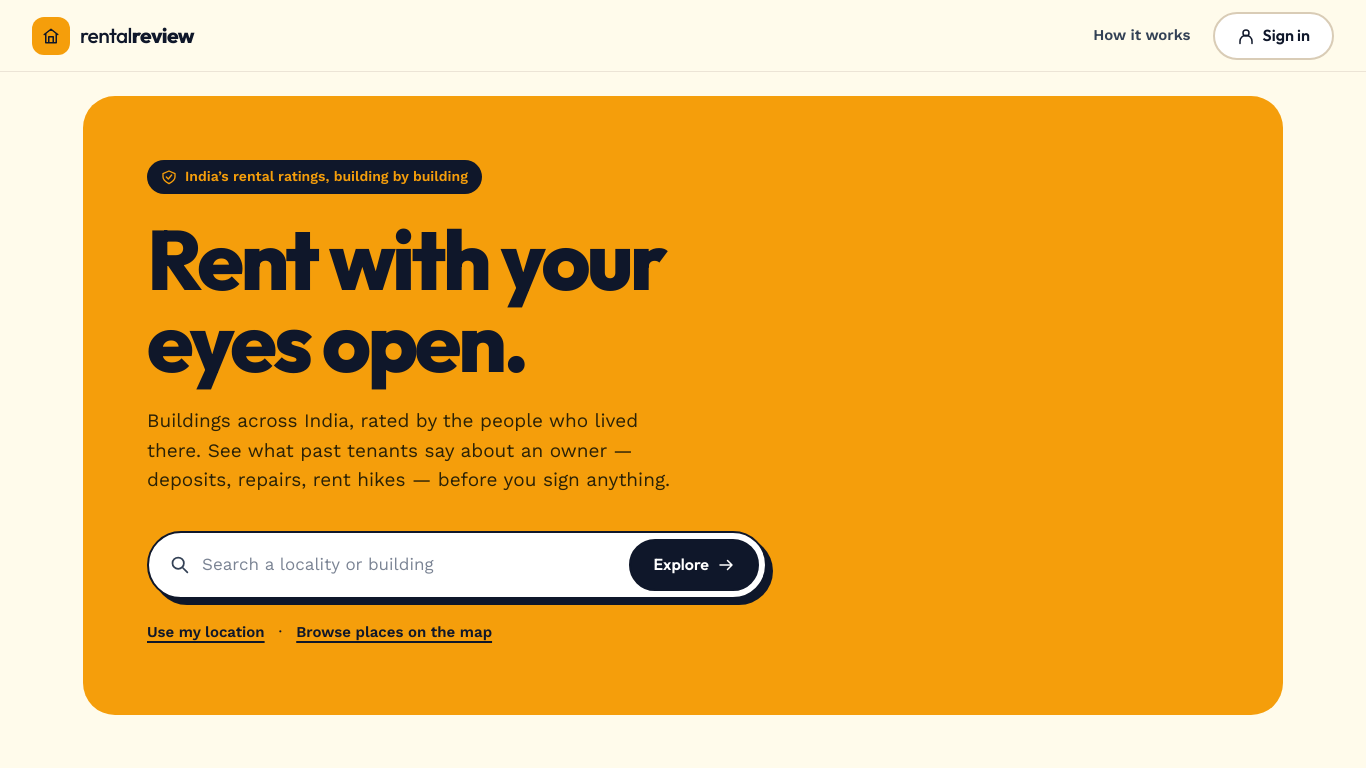
Test: Rental Review › opens a review on its own page with its discussion, like a building
Click the button "Browse places on the map" at (394, 633), box [296,615,492,651]
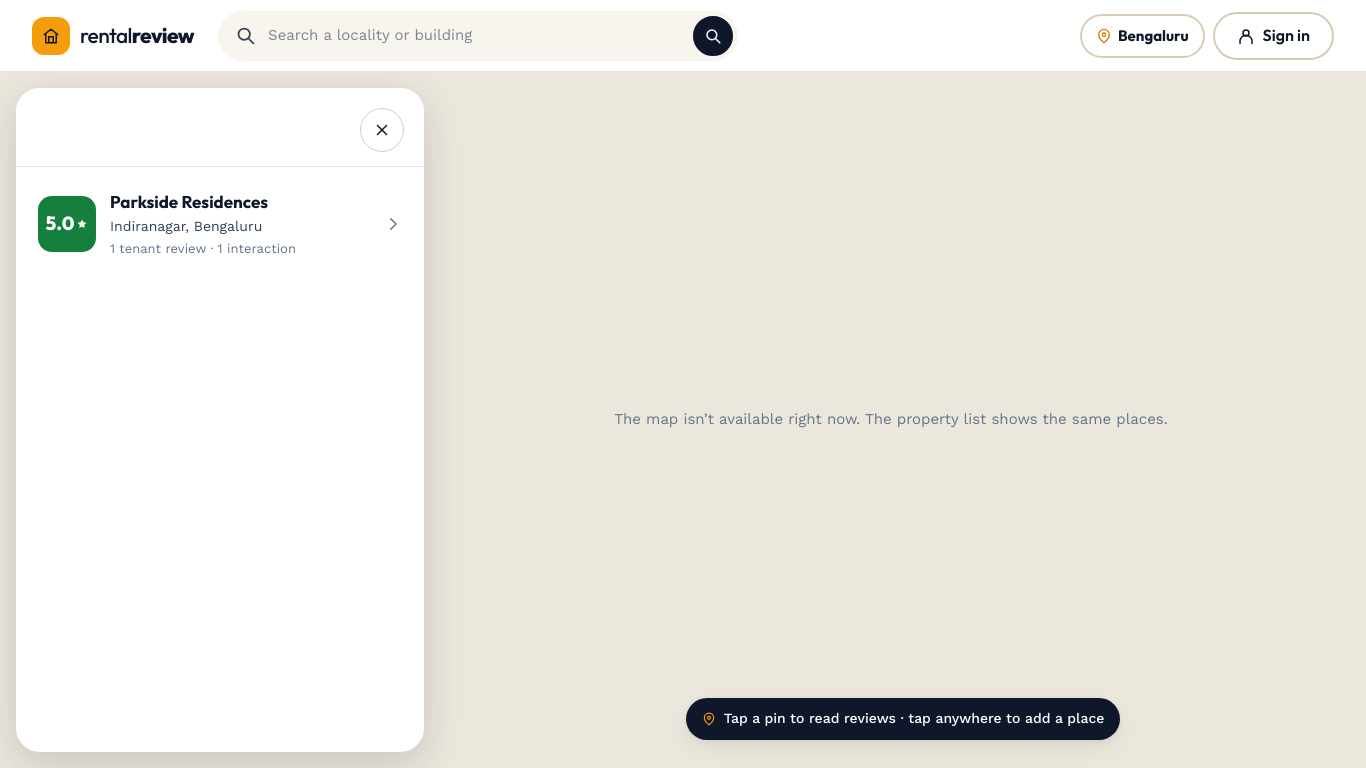
Click the button "Parkside Residences" at (220, 224), box [26,177,414,271]
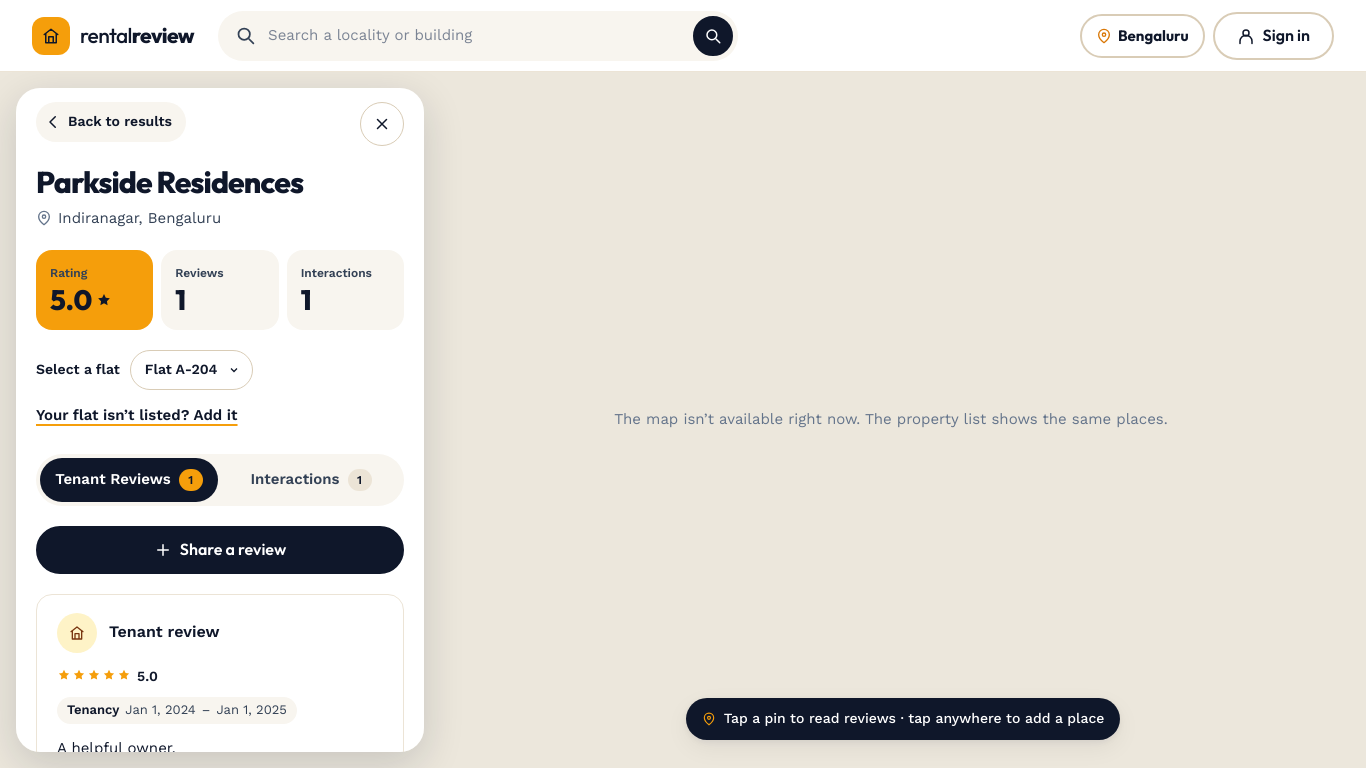
Click the text "A helpful owner." at (116, 748), box [57,739,176,757]
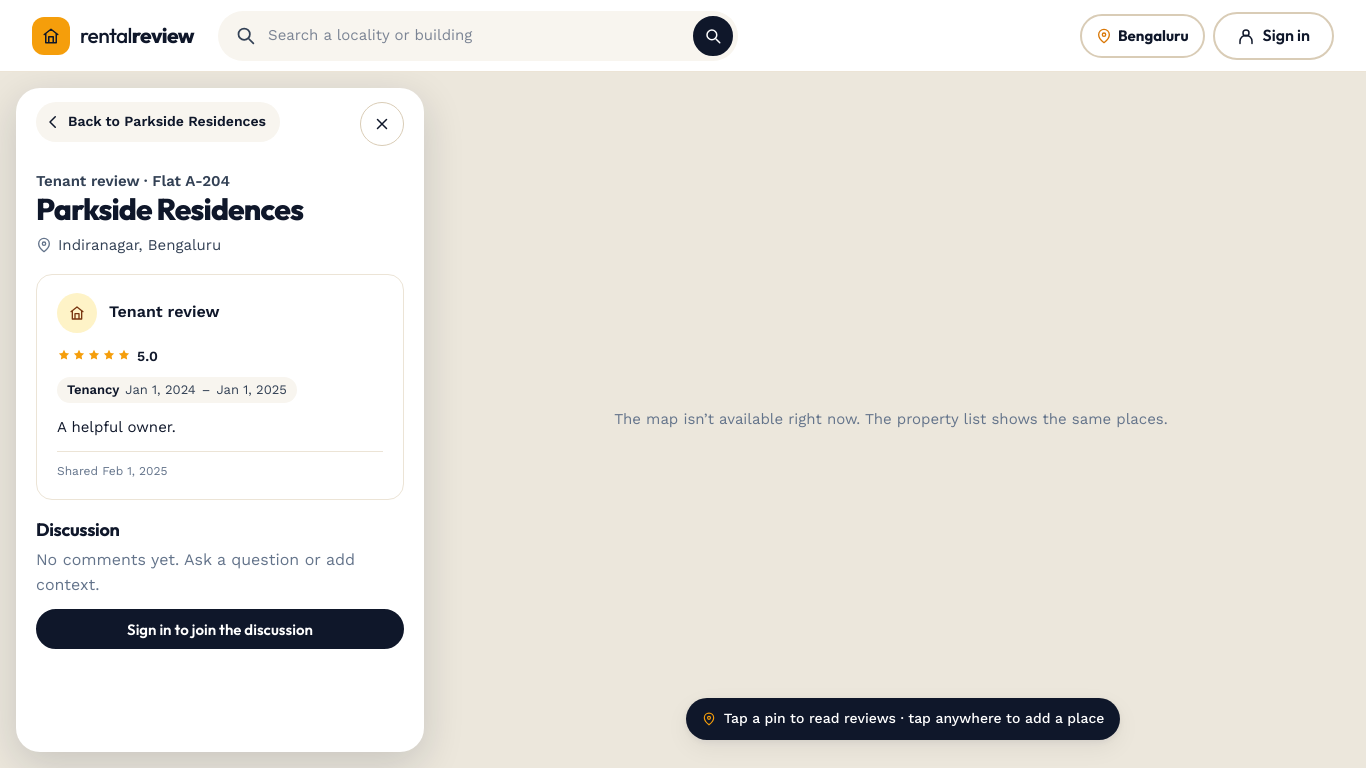
Expected: the heading "Discussion" is shown, [36,518,119,541]
Expected: the text "Tenant review · Flat A-204" is shown, [36,172,230,190]
Click the button "Back to Parkside Residences" at (158, 122), box [36,102,280,142]
(page scrolled)
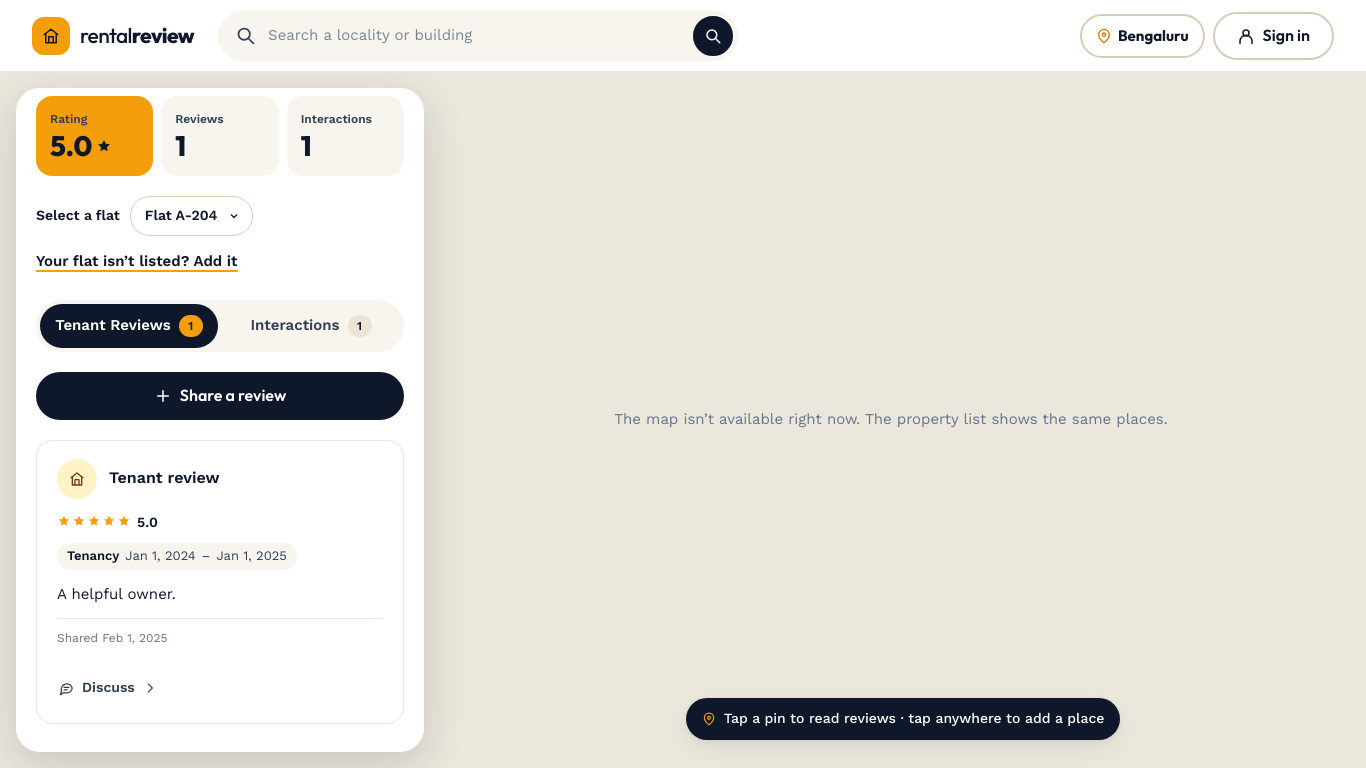
Expected: the element showing "Tenant Reviews 1 Interactions 1" is shown, [36,300,404,352]
Click the button "Discuss" at (108, 687), box [57,671,383,705]
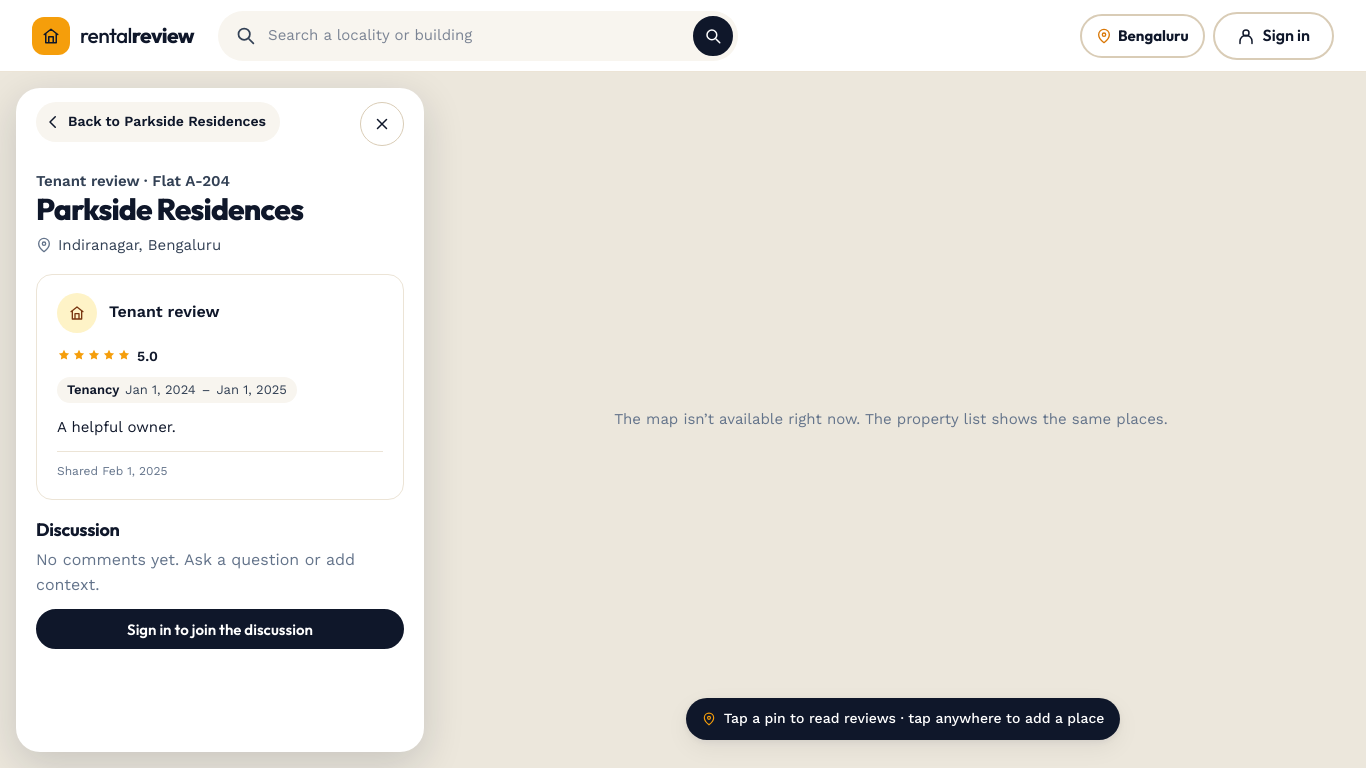
Expected: the element named "Tenant review and its discussion" is shown, [16,88,424,677]
